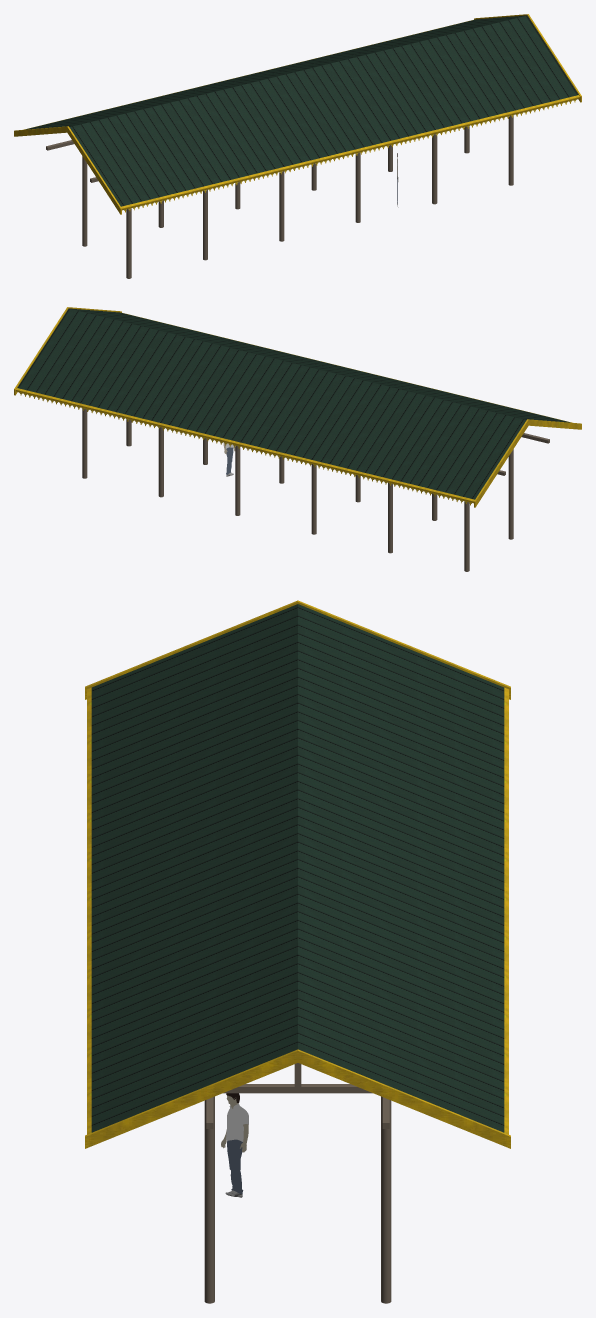
Rendered from TrainStationRoof.fbx.
The picture shows the model from 3 angles, top to bottom: view 1: azimuth 30°, elevation 25°; view 2: azimuth 150°, elevation 25°; view 3: azimuth 270°, elevation 25°; orthographic projection. The views are drawn at different scales.
Visible parts, largest first — view 1: Mesh1 Group1 Model.001, Mesh38 sphere21 Component_1_11 Group_3_3 Model.002; view 2: Mesh1 Group1 Model.001, Mesh38 sphere21 Component_1_11 Group_3_3 Model.002; view 3: Mesh1 Group1 Model.001, Mesh38 sphere21 Component_1_11 Group_3_3 Model.002, Mesh17 Sang1 Model.001.
Part boxes in pixels (x1,y1,x2,y2): Mesh1 Group1 Model.001: (14,14,581,214); Mesh38 sphere21 Component_1_11 Group_3_3 Model.002: (46,115,513,278); Mesh1 Group1 Model.001: (14,307,581,507); Mesh38 sphere21 Component_1_11 Group_3_3 Model.002: (82,408,549,571); Mesh1 Group1 Model.001: (85,600,510,1148); Mesh38 sphere21 Component_1_11 Group_3_3 Model.002: (204,1063,391,1303); Mesh17 Sang1 Model.001: (221,1093,248,1197).
Bounding box in the file's own units: 622 × 186 × 249.
